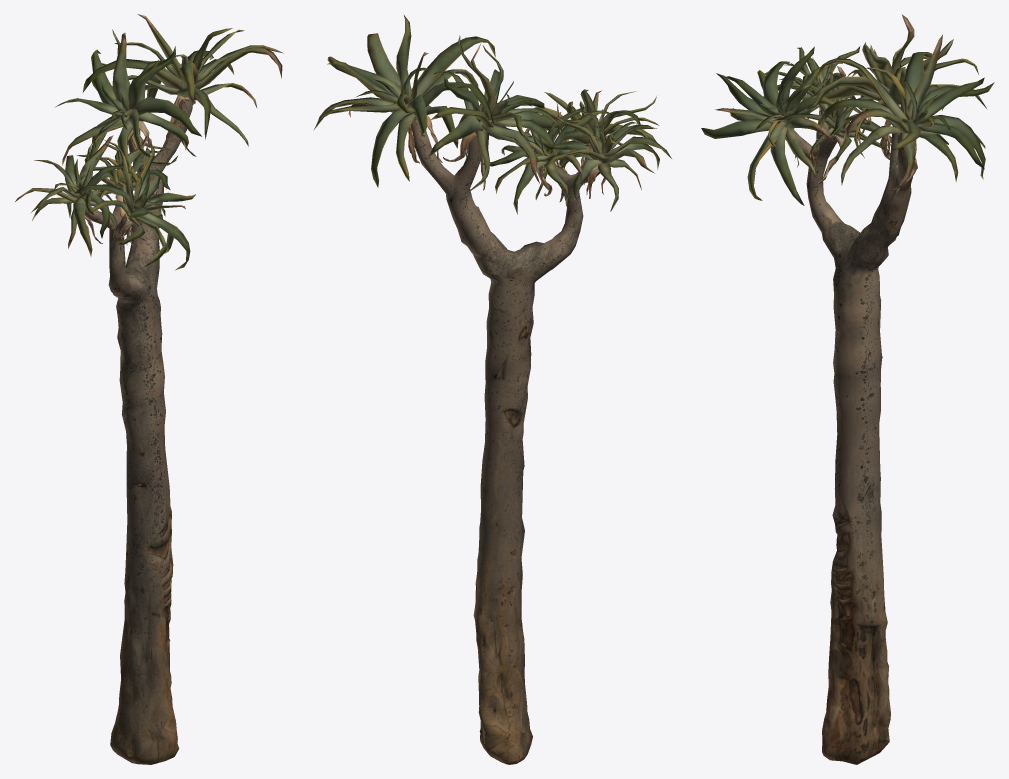
File: quiver_tree_01.glb
3 renders of one model, left to right at view 1: azimuth 30°, elevation 25°; view 2: azimuth 150°, elevation 25°; view 3: azimuth 270°, elevation 25°, orthographic. The views are drawn at different scales.
Parts seen in each view (by area): view 1: quiver_tree_01; view 2: quiver_tree_01; view 3: quiver_tree_01.
Boxes of the visible parts, left/top/right/bottom form: quiver_tree_01: left=15, top=14, right=283, bottom=764; quiver_tree_01: left=313, top=15, right=671, bottom=764; quiver_tree_01: left=701, top=14, right=994, bottom=764.
Size of the model in its own units: 1.18 by 2.71 by 0.9701.
Materials: 2 (2 with a texture image).
